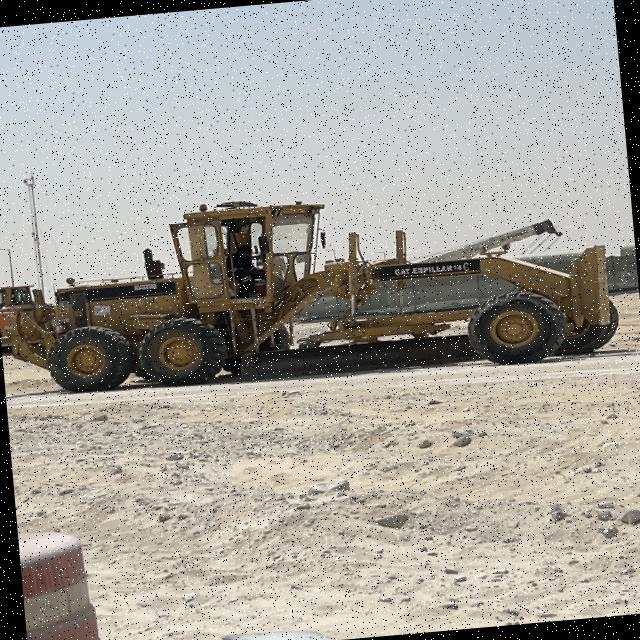Grader: (0, 162, 620, 403)
